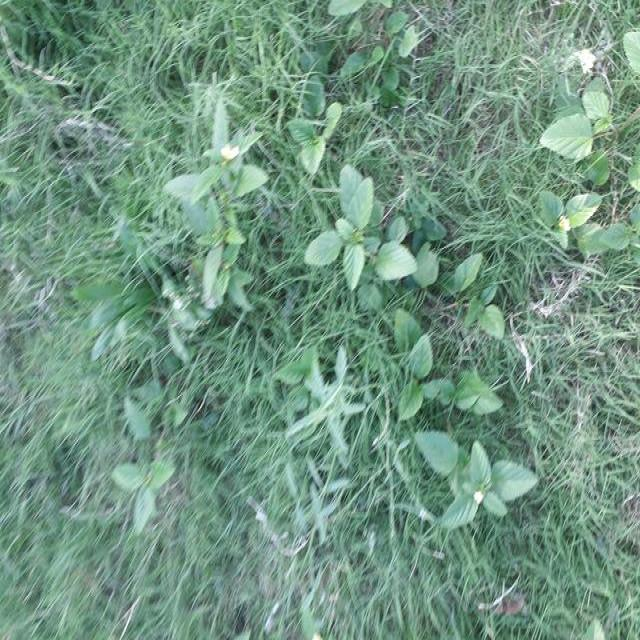weed: (541, 64, 640, 278), (178, 122, 256, 310), (313, 177, 420, 299), (416, 432, 534, 532), (96, 379, 171, 526), (283, 352, 362, 464), (464, 232, 507, 434), (385, 305, 456, 418)
